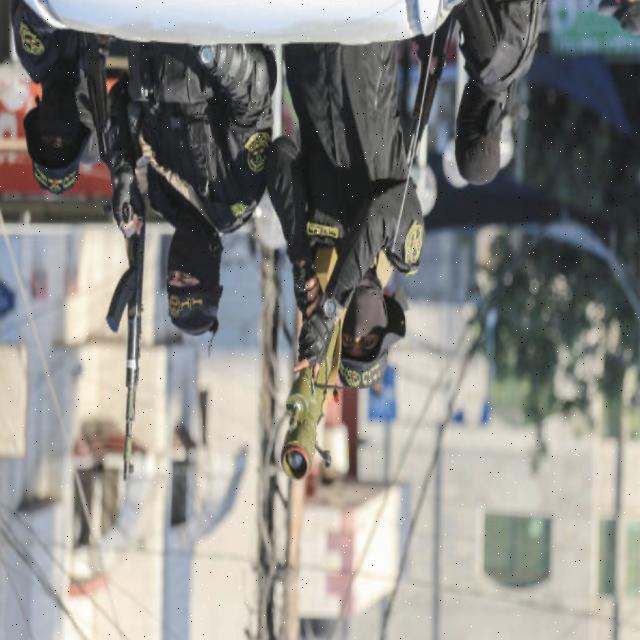bazooka: (276, 305, 340, 493)
